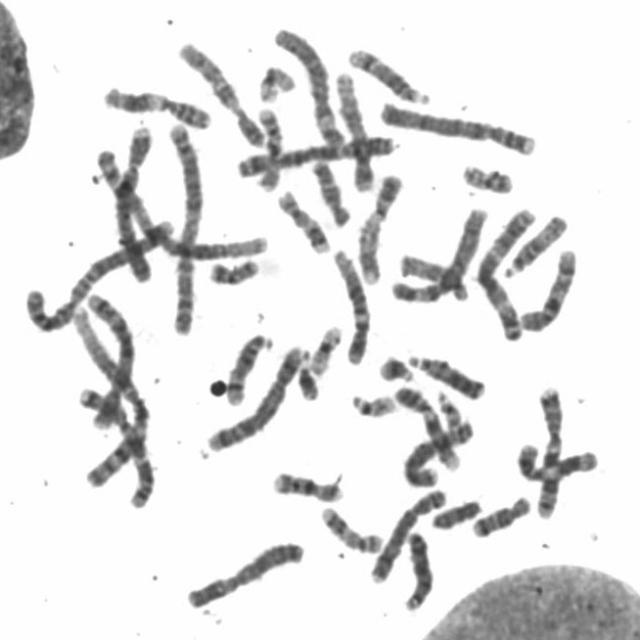A1: (91, 141, 271, 263), (68, 292, 158, 510)
A2: (18, 210, 179, 333), (162, 112, 206, 336)
A3: (471, 198, 540, 342), (225, 132, 400, 184)
B4: (374, 92, 541, 157), (106, 120, 158, 284)
B5: (201, 335, 312, 455), (83, 298, 140, 436)
C10: (172, 33, 269, 149), (514, 240, 581, 334)
C11: (96, 77, 216, 130), (510, 434, 602, 484)
C12: (330, 64, 379, 194), (327, 240, 375, 366)
C6: (386, 198, 492, 305), (268, 17, 350, 150)
C7: (70, 376, 158, 510), (530, 378, 568, 520)
C8: (363, 479, 450, 586), (398, 412, 478, 489)
C9: (388, 378, 463, 473), (352, 165, 407, 286)
D13: (403, 346, 489, 402), (398, 524, 437, 612)
D14: (342, 39, 432, 105), (220, 325, 277, 406)
D15: (498, 206, 572, 279), (394, 244, 474, 303)
E16: (266, 462, 348, 504), (250, 99, 286, 192)
E17: (271, 182, 334, 255), (314, 498, 387, 555)
E18: (306, 151, 356, 228), (466, 486, 535, 540)
F19: (304, 317, 346, 377), (253, 58, 300, 104)
F20: (455, 154, 517, 196), (203, 250, 264, 286)
G21: (373, 346, 419, 384), (293, 356, 322, 402)
G22: (344, 384, 400, 420), (432, 384, 466, 432)
X: (180, 533, 308, 611)
Y: (426, 489, 485, 532)
